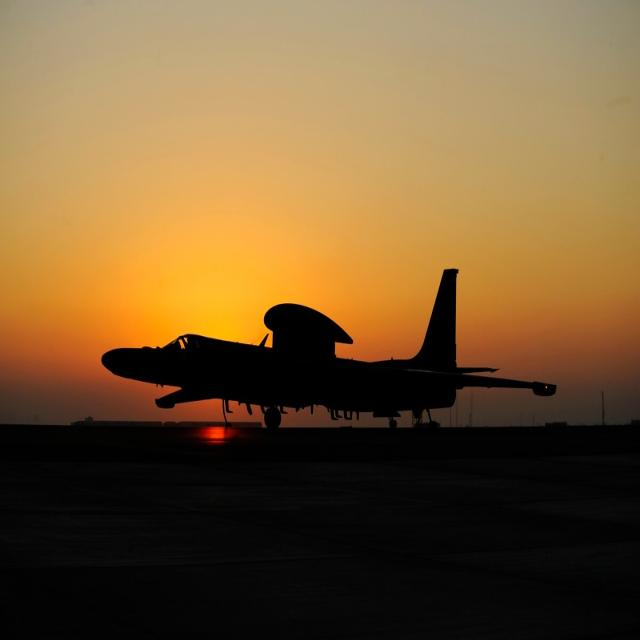MIL_Plane: (100, 267, 556, 429)
